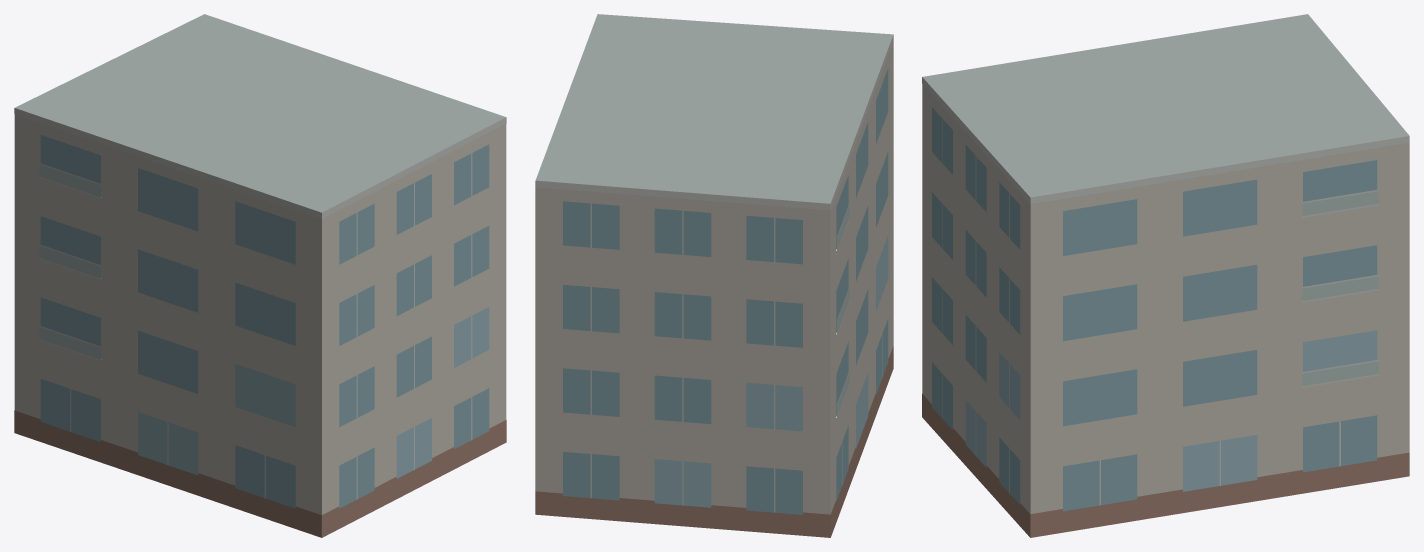
The model's file is survey-upis-32984303.glb.
The picture shows the model from 3 angles, left to right: view 1: azimuth 30°, elevation 25°; view 2: azimuth 150°, elevation 25°; view 3: azimuth 270°, elevation 25°; orthographic projection. The views are drawn at different scales.
Visible parts, largest first — view 1: survey-upis-32984303.tmp; view 2: survey-upis-32984303.tmp; view 3: survey-upis-32984303.tmp.
Boxes of the visible parts, box(x1,y1,x2,y2) form: survey-upis-32984303.tmp: box(14, 14, 506, 537); survey-upis-32984303.tmp: box(535, 14, 893, 537); survey-upis-32984303.tmp: box(922, 14, 1409, 537).
Bounding box in the file's own units: 14.58 × 12.6 × 16.37.
